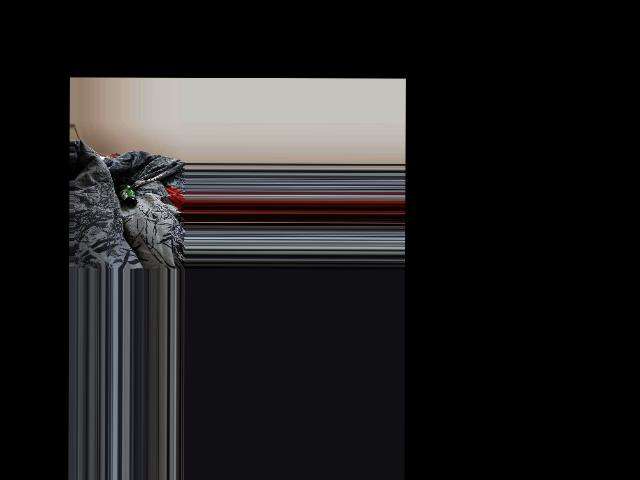beer: (114, 179, 136, 206)
